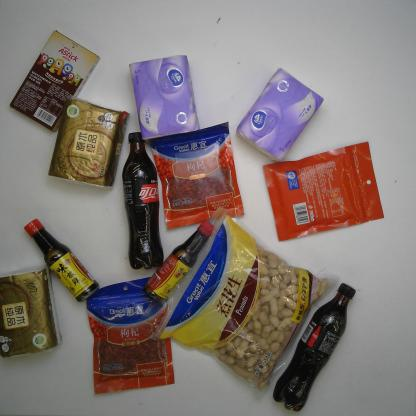Dessert: (9, 30, 101, 132)
Dried Food: (134, 206, 340, 396)
Dried Fruit: (263, 141, 384, 242), (86, 276, 176, 395), (148, 121, 245, 231)
Drink: (272, 282, 356, 412), (122, 132, 164, 270)
Seasoner: (22, 218, 101, 303), (141, 218, 217, 306)
Tissue: (236, 66, 324, 163), (47, 95, 130, 190), (128, 54, 200, 142), (0, 264, 62, 358)
